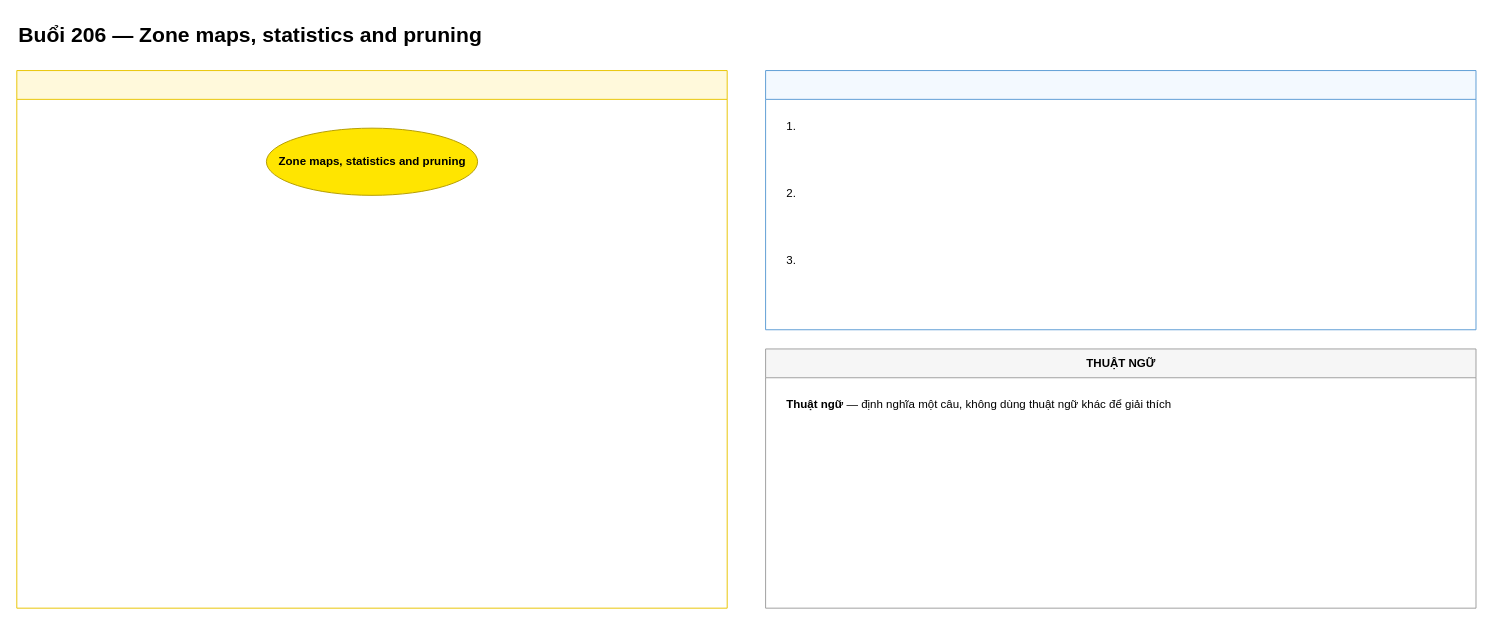
Image size: 1493x625. Some labels were removed from this diagram. Each missing label, with the box of its shape:
KEY TAKEAWAY — ba điều phải nhớ: (765, 70, 1476, 330)
MINDMAP: (16, 70, 727, 608)
